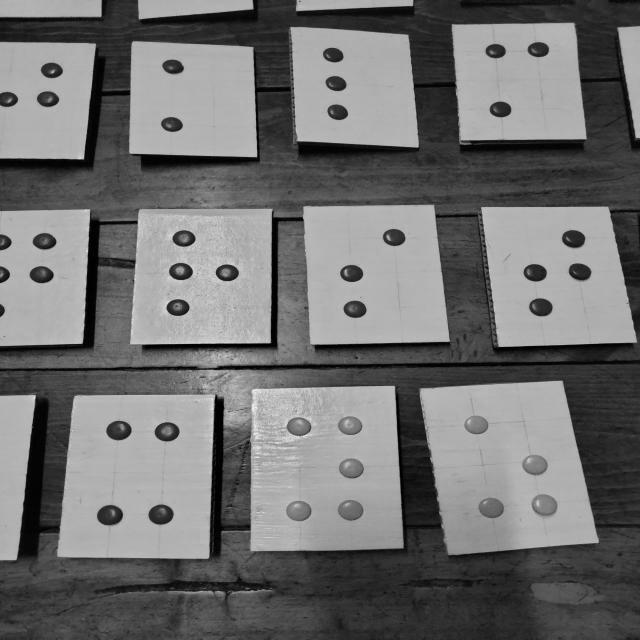braiile: (421, 382, 599, 554), (61, 396, 212, 558), (254, 388, 403, 550), (306, 204, 452, 345), (483, 208, 635, 343), (131, 209, 270, 343), (455, 25, 584, 140), (294, 28, 418, 147), (131, 42, 257, 157)
